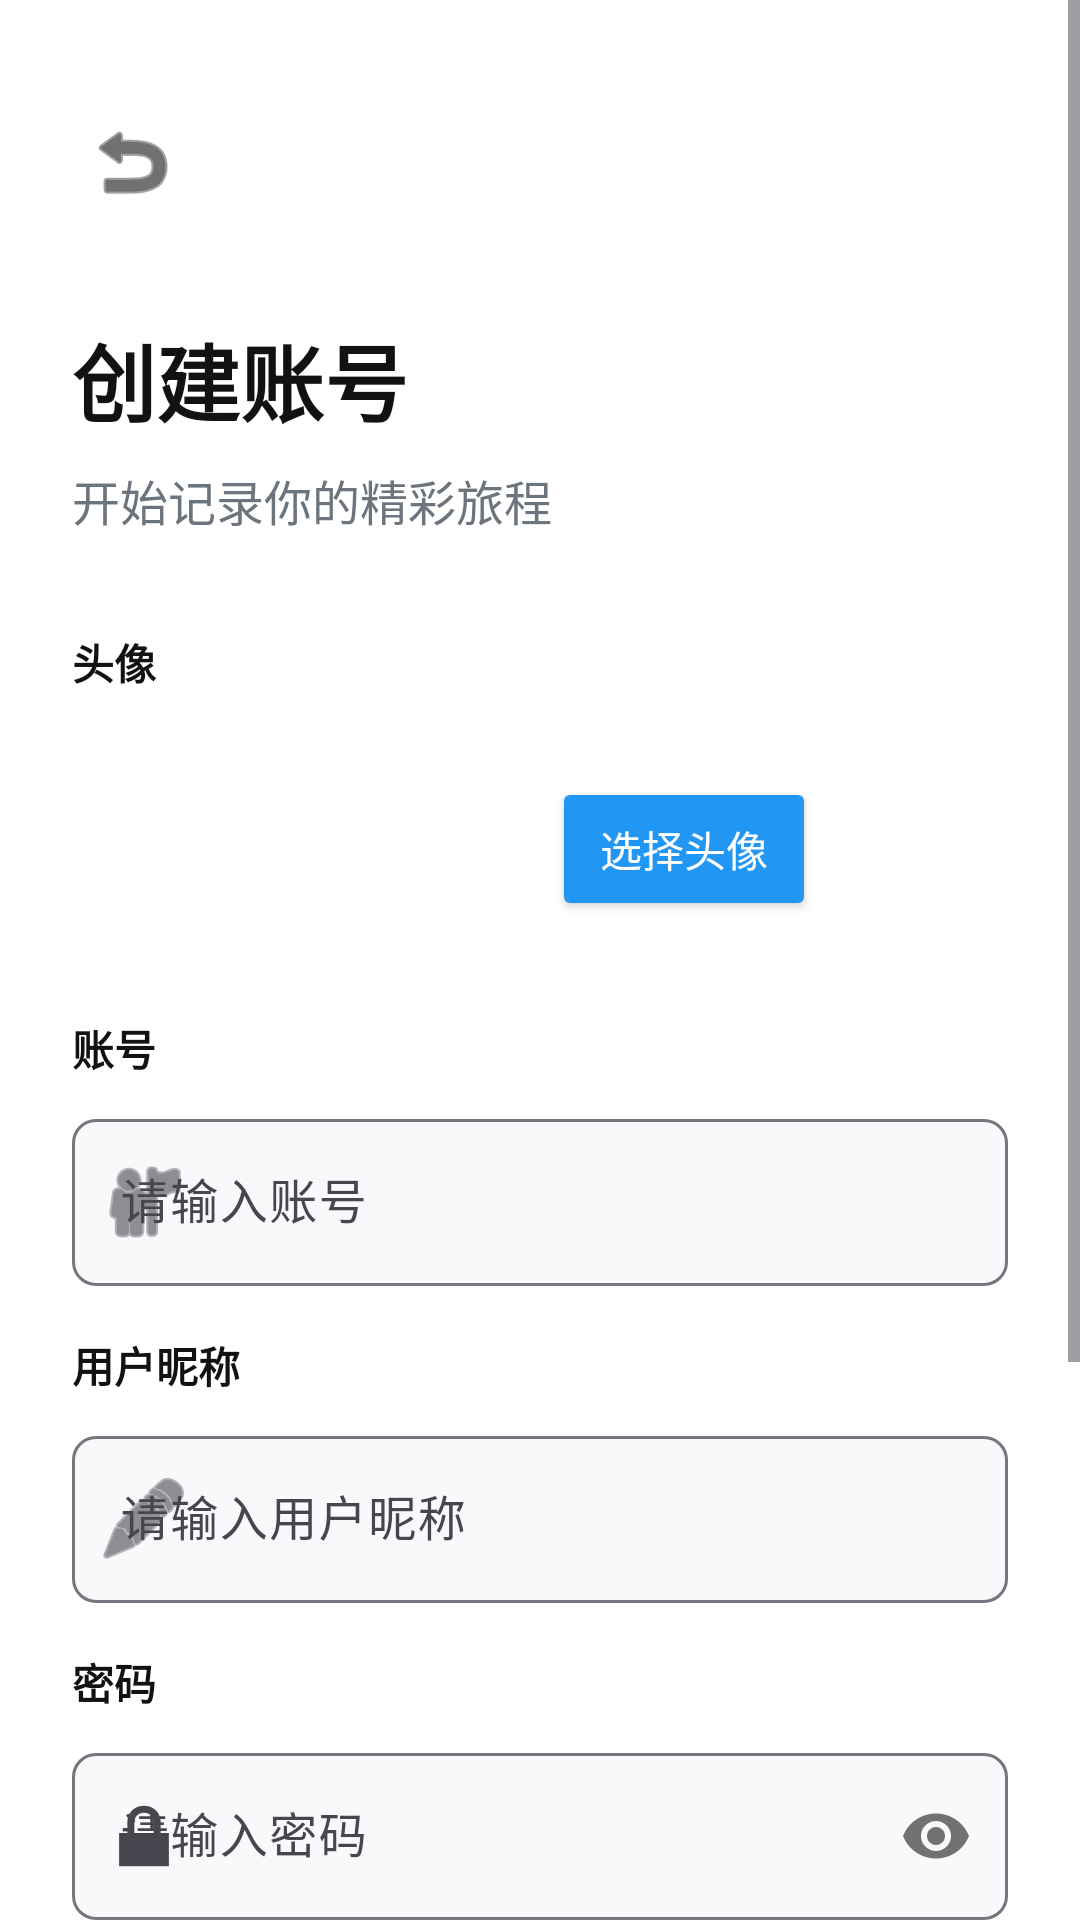

Icon bounding boxes for this 1080px x 1920px phone screenshot, format (x1, y1, x2, y2):
revert: (99, 131, 168, 194)
